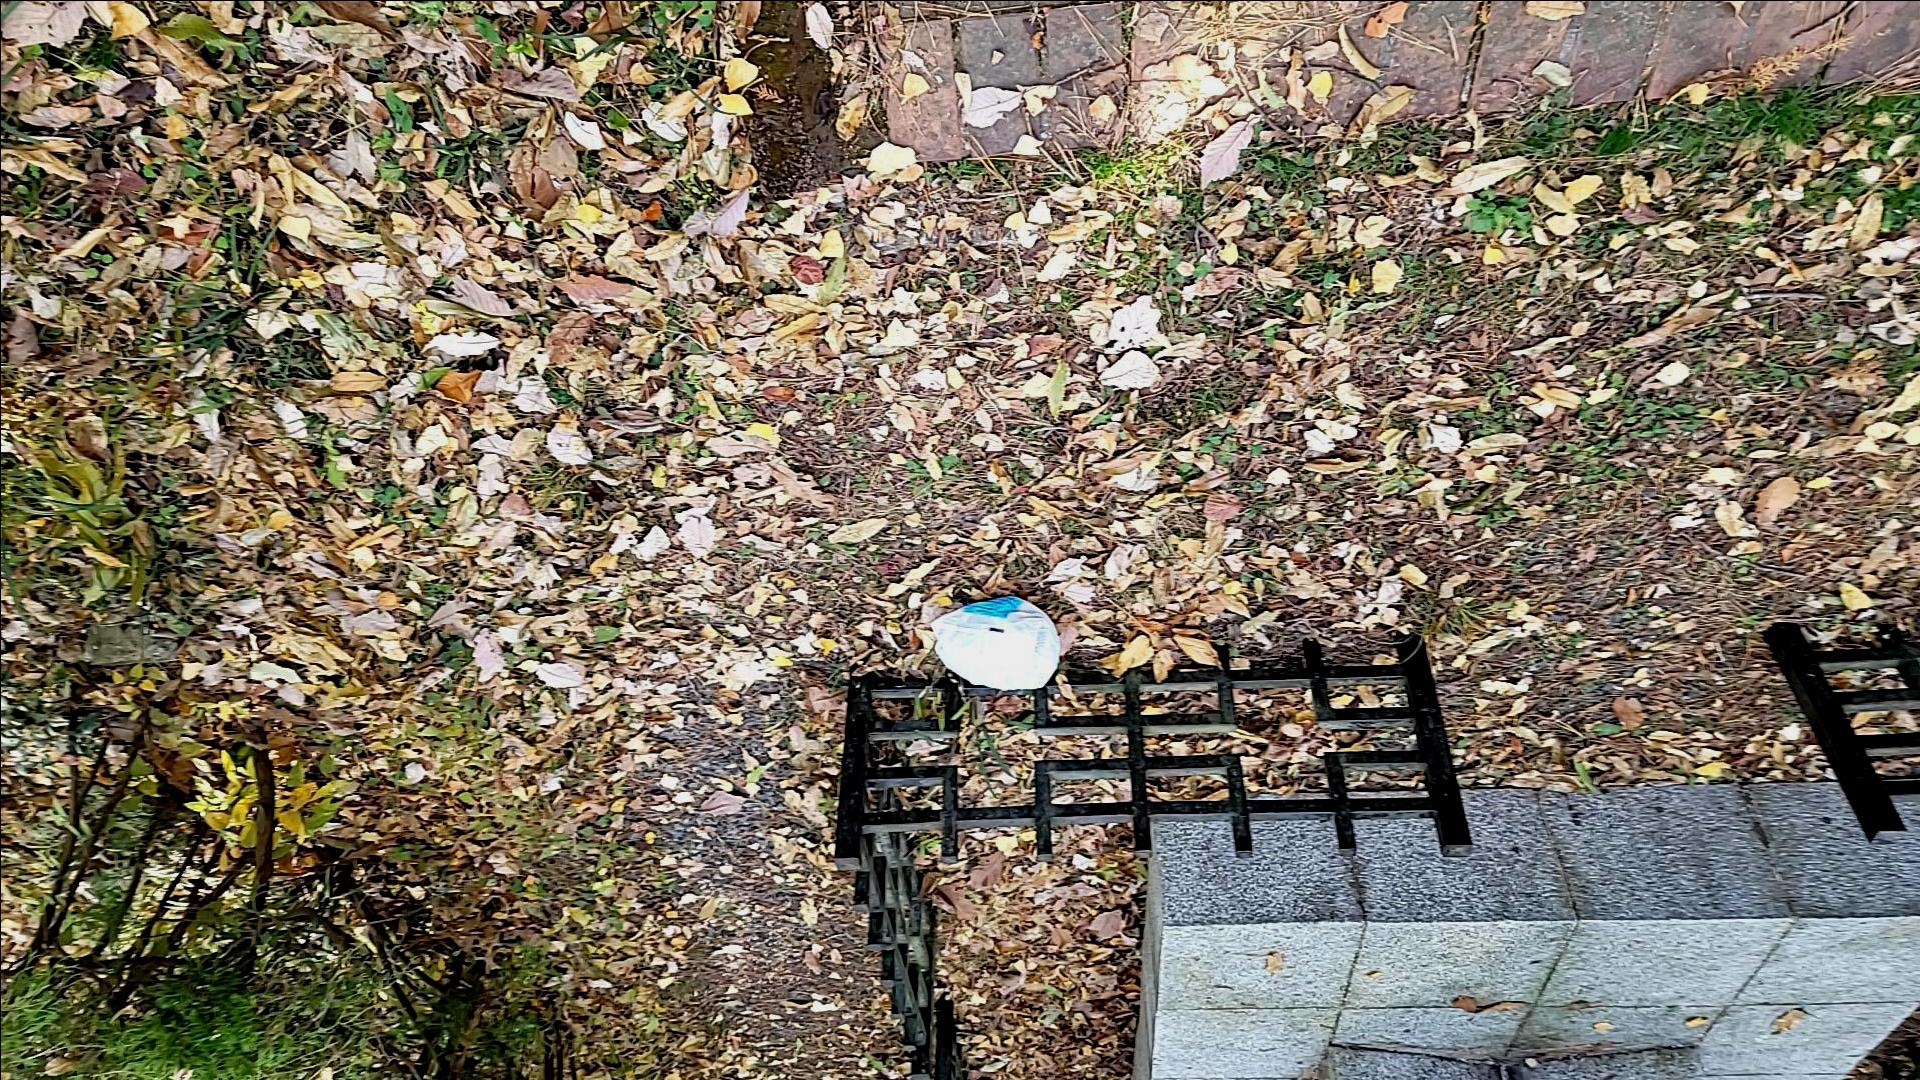white_bag: (927, 593, 1065, 690)
